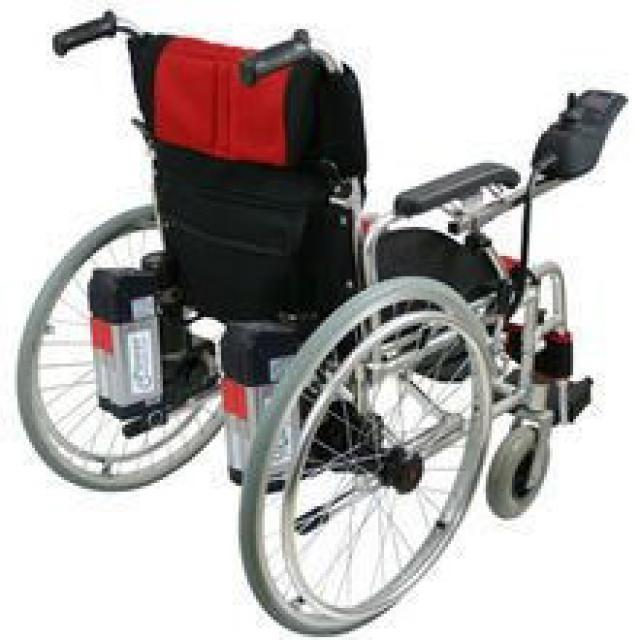wheelchairs: (22, 11, 583, 640)
